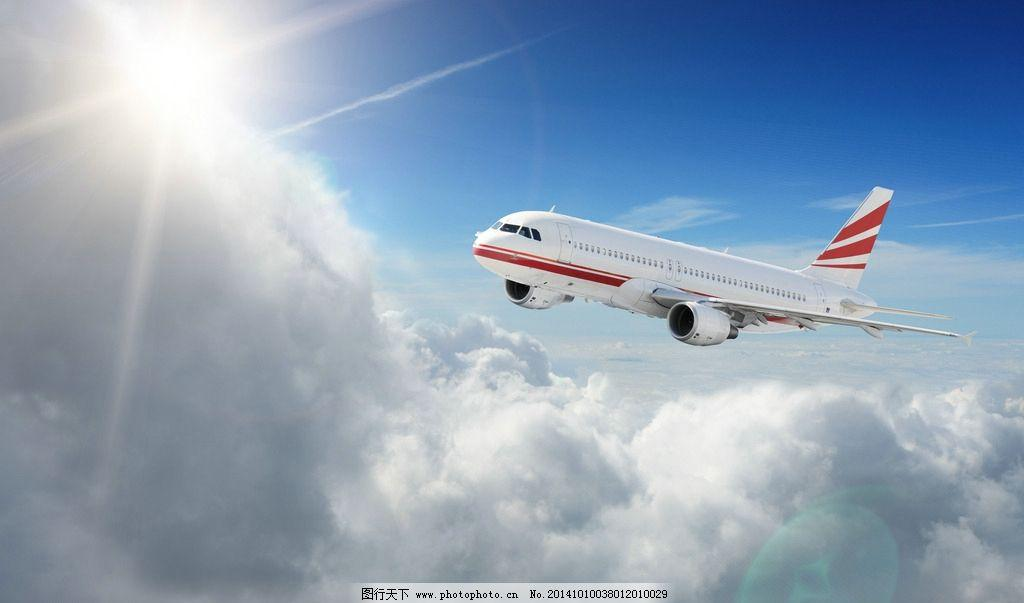airplane: (465, 181, 991, 347)
